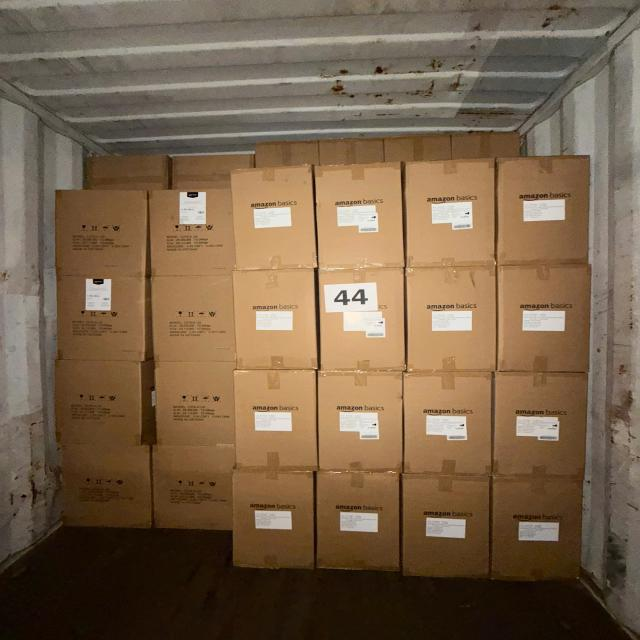Carton: (498, 262, 594, 372), (498, 156, 592, 266), (496, 370, 592, 477), (493, 476, 586, 586), (398, 471, 491, 580), (404, 267, 496, 375), (404, 160, 496, 267), (400, 372, 492, 477), (317, 266, 404, 372), (317, 162, 404, 268), (316, 472, 402, 577), (317, 369, 404, 472), (236, 366, 320, 471), (233, 167, 317, 271), (233, 471, 317, 574), (59, 439, 152, 532), (237, 270, 319, 374), (53, 186, 146, 277), (51, 357, 143, 444), (55, 279, 146, 364), (153, 275, 239, 361), (152, 188, 237, 274), (155, 360, 238, 448), (153, 444, 235, 532)
